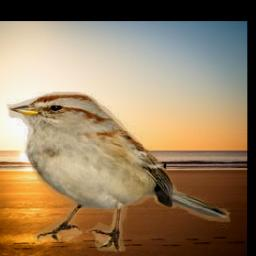Sparrow: (7, 92, 231, 251)
